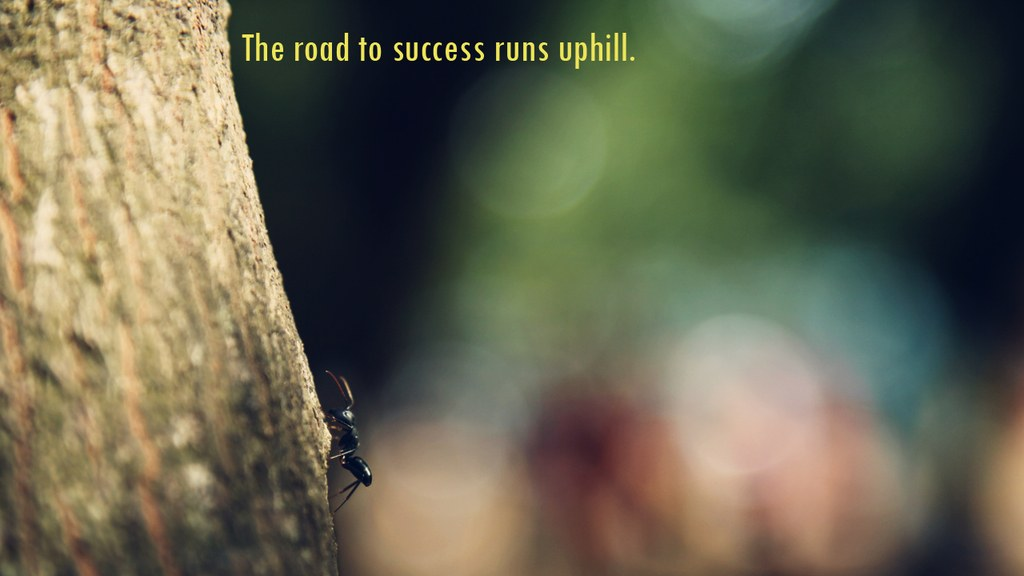insect: (323, 370, 375, 516)
